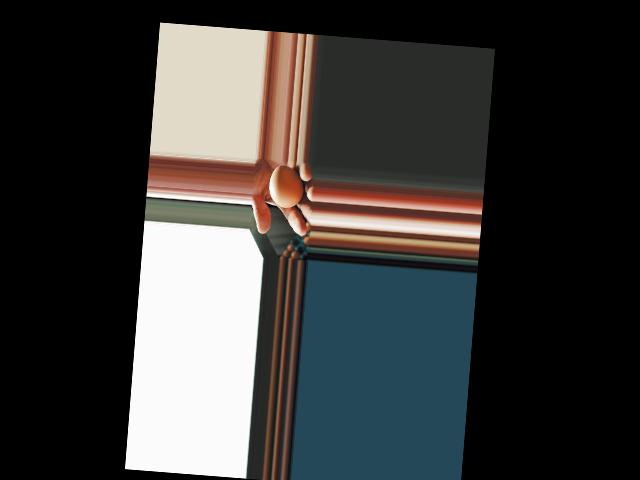egg: (268, 163, 306, 209)
